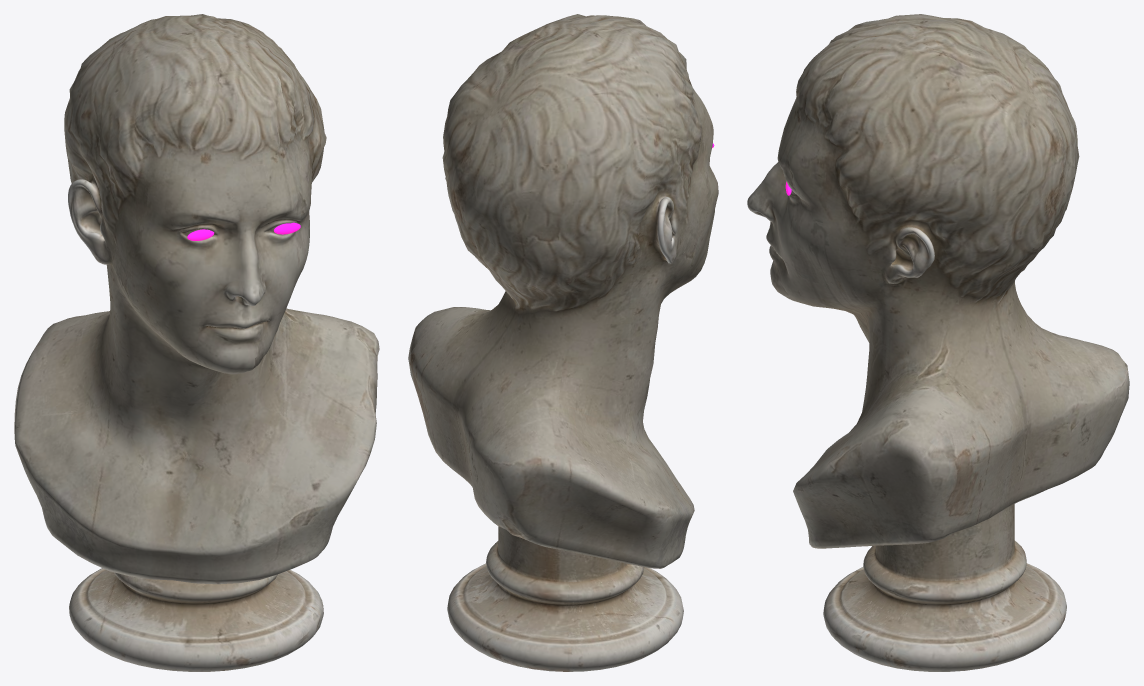
The model's file is sota-bust.glb.
The picture shows the model from 3 angles, left to right: view 1: azimuth 30°, elevation 25°; view 2: azimuth 150°, elevation 25°; view 3: azimuth 270°, elevation 25°; orthographic projection. The views are drawn at different scales.
Visible parts, largest first — view 1: Poly Haven marble bust by Rico Cilliers; view 2: Poly Haven marble bust by Rico Cilliers; view 3: Poly Haven marble bust by Rico Cilliers.
Part boxes in pixels (x1,y1,x2,y2): Poly Haven marble bust by Rico Cilliers: [14, 14, 379, 671]; Poly Haven marble bust by Rico Cilliers: [408, 14, 718, 671]; Poly Haven marble bust by Rico Cilliers: [747, 14, 1129, 671].
Size of the model in its own units: 0.2717 by 0.5149 by 0.2997.
Materials: 2 (1 with a texture image).
